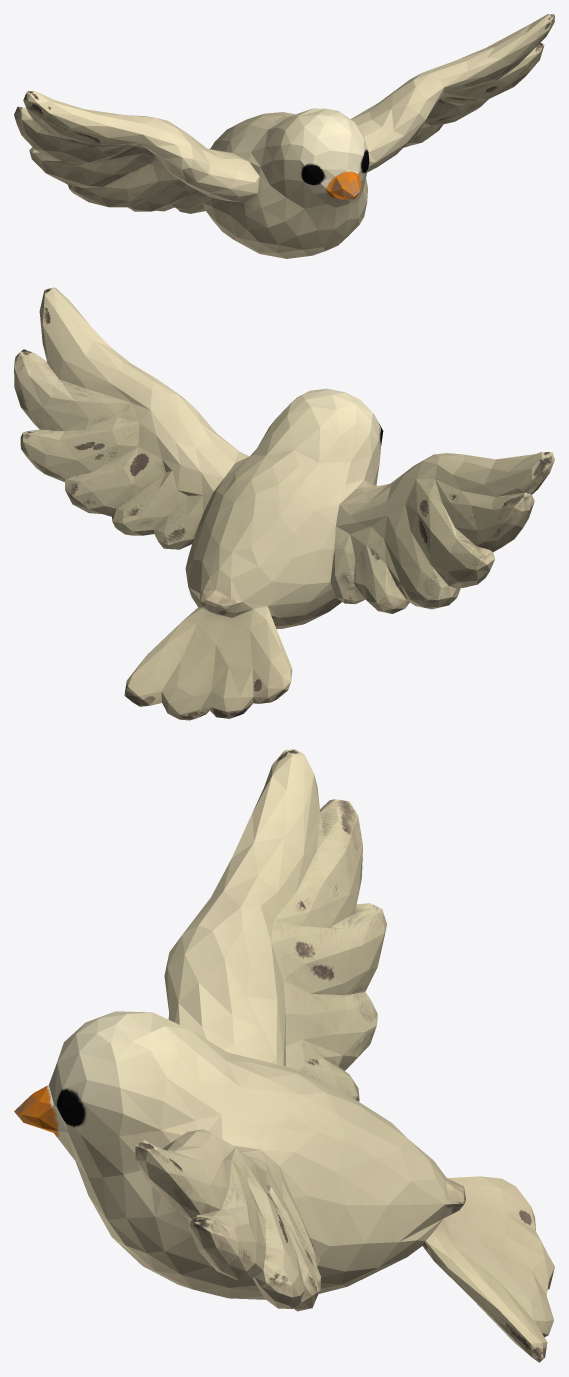
The picture shows the model from 3 angles, top to bottom: view 1: azimuth 30°, elevation 25°; view 2: azimuth 150°, elevation 25°; view 3: azimuth 270°, elevation 25°; orthographic projection. The views are drawn at different scales.
Bounding box in the file's own units: 1 × 0.4553 × 0.5777.
Materials: 1 (1 with a texture image).
